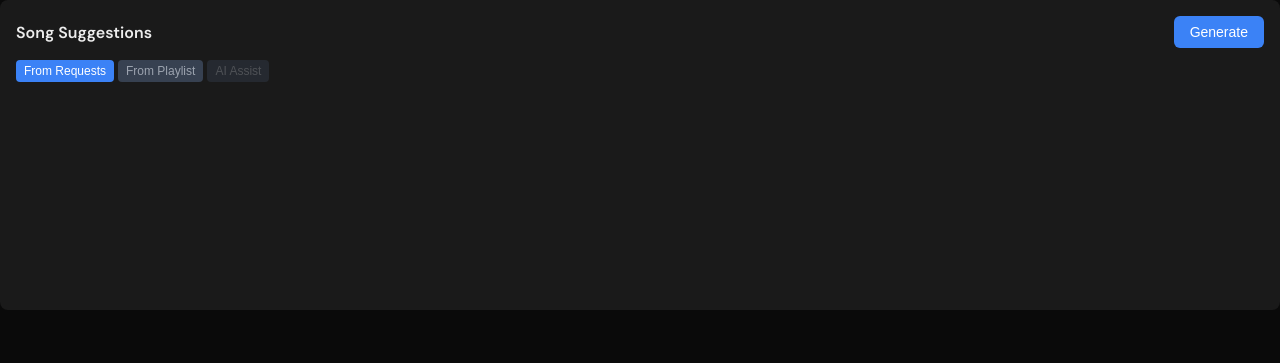
Scenario: RecommendationsCard › Accept individual removes track from list
Click the button "Generate" at (1219, 32), box x1=1174 y1=16 x2=1264 y2=48
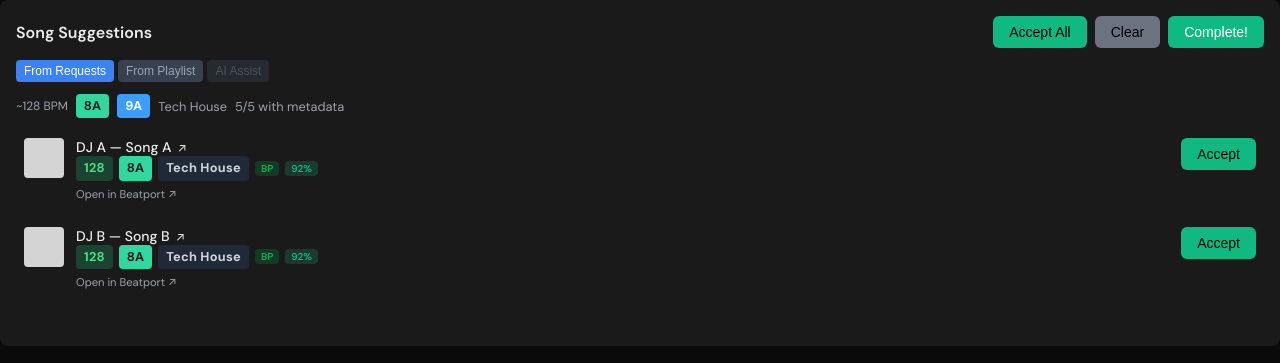
Check: the text "DJ A — Song A" is shown, box x1=76 y1=138 x2=172 y2=156
Click the button "Accept" in the row of "Song A" at (1219, 154), box x1=1181 y1=138 x2=1256 y2=170
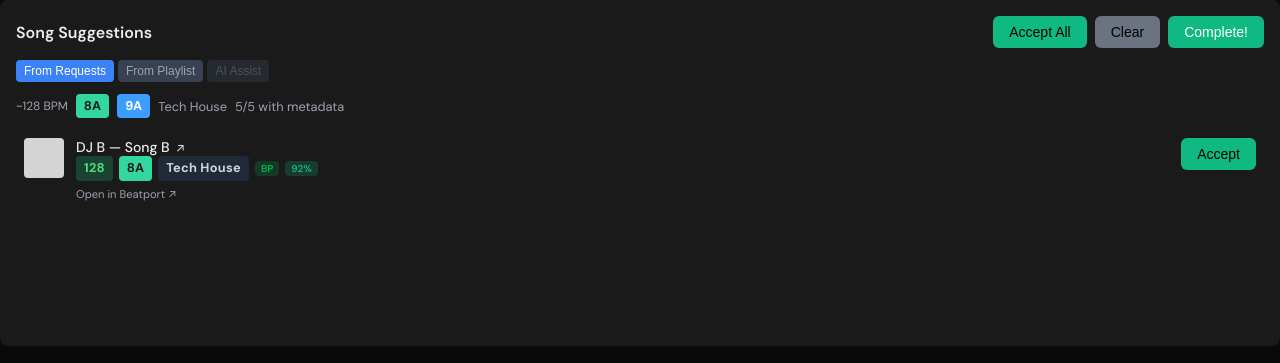
Check: the text "DJ B — Song B" is shown, box x1=76 y1=138 x2=170 y2=156
Check: the text "DJ A" is gone
